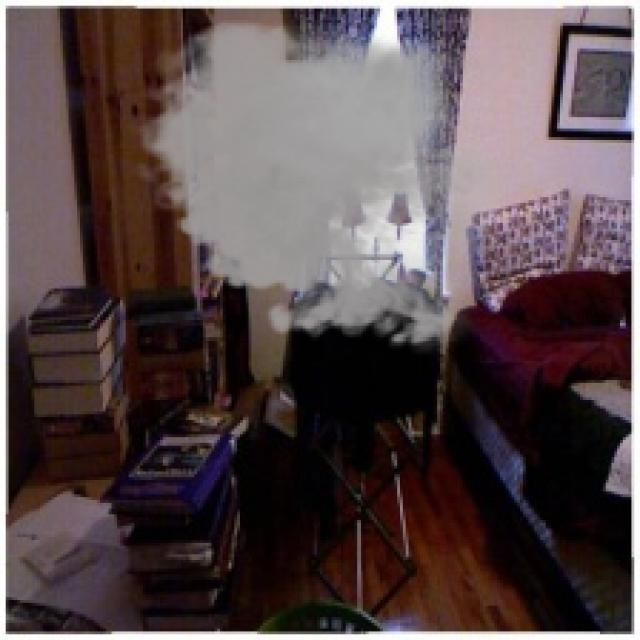smoke: (126, 9, 517, 357)
